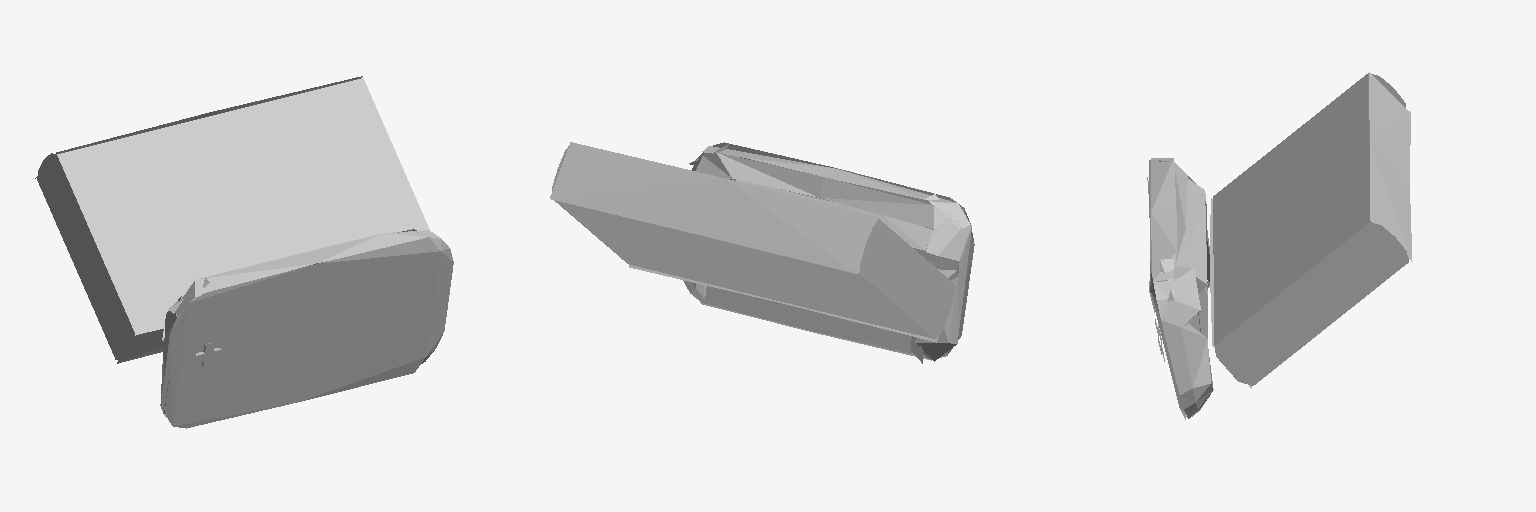
File: decimated.obj
3 renders of one model, left to right at view 1: azimuth 30°, elevation 25°; view 2: azimuth 150°, elevation 25°; view 3: azimuth 270°, elevation 25°, orthographic.
Visible parts, largest first — view 1: vsn_mesh_0__mesh_0_; view 2: vsn_mesh_0__mesh_0_; view 3: vsn_mesh_0__mesh_0_.
Boxes of the visible parts, box(x1,y1,x2,y2) form: vsn_mesh_0__mesh_0_: box(35, 76, 453, 428); vsn_mesh_0__mesh_0_: box(550, 142, 974, 363); vsn_mesh_0__mesh_0_: box(1147, 72, 1412, 419).
Bounding box in the file's own units: 71.61 × 48.96 × 52.95.